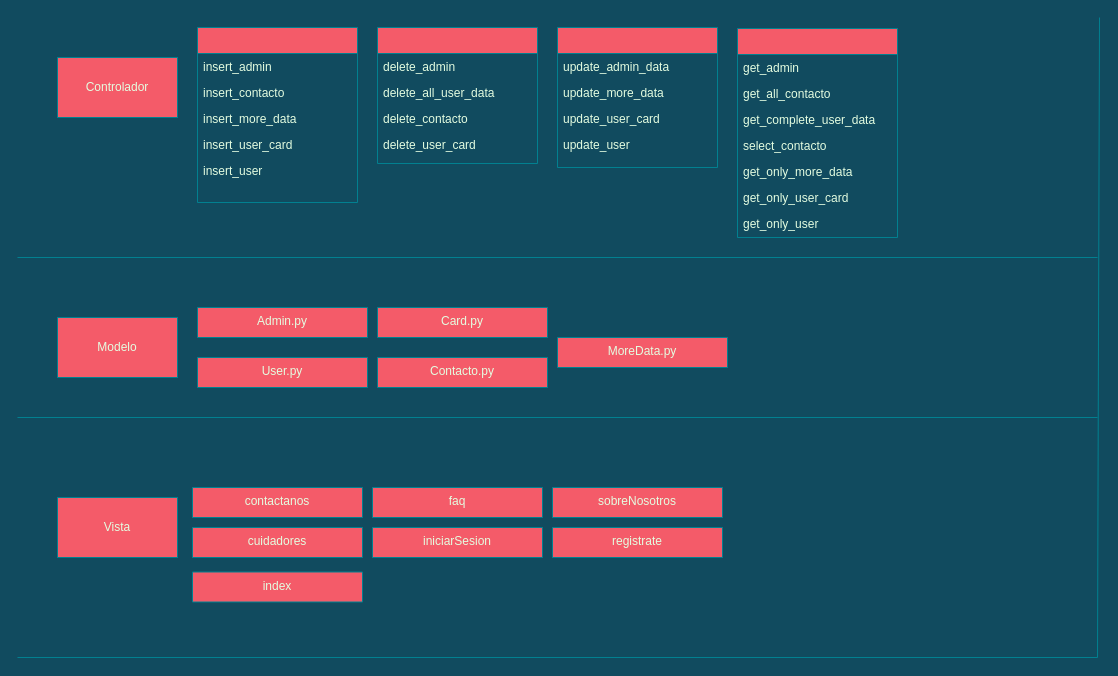
Some shapes in this 1118 by 676 pixel diagram are drawn without their labels. The shapes that lost their labels are listed below. From the top down, each one's box as (x1, y1, x2, y2) in pixels, then its label:
(196, 26, 358, 202): Sql_Insert.py
(376, 26, 538, 164): Sql_Delete.py
(556, 26, 718, 168): Sql_Update.py
(736, 28, 898, 238): Sql_Select.py
